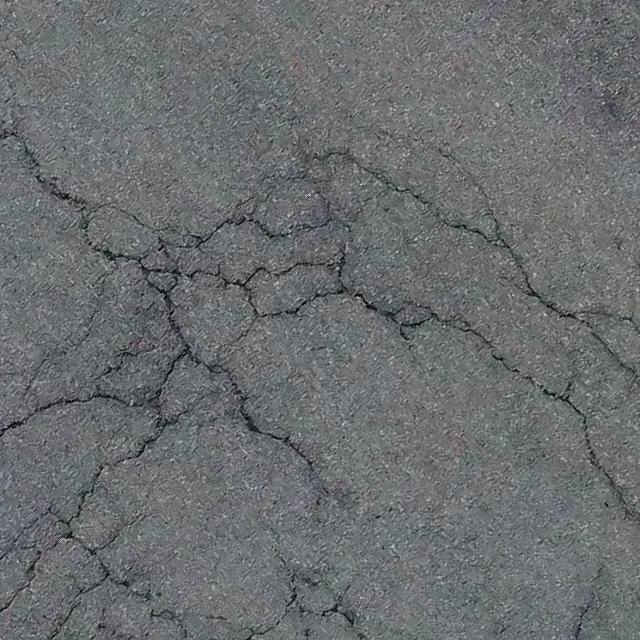GRIETA: (0, 125, 100, 210)
PIEL DE COCODRILO: (0, 112, 639, 639)
